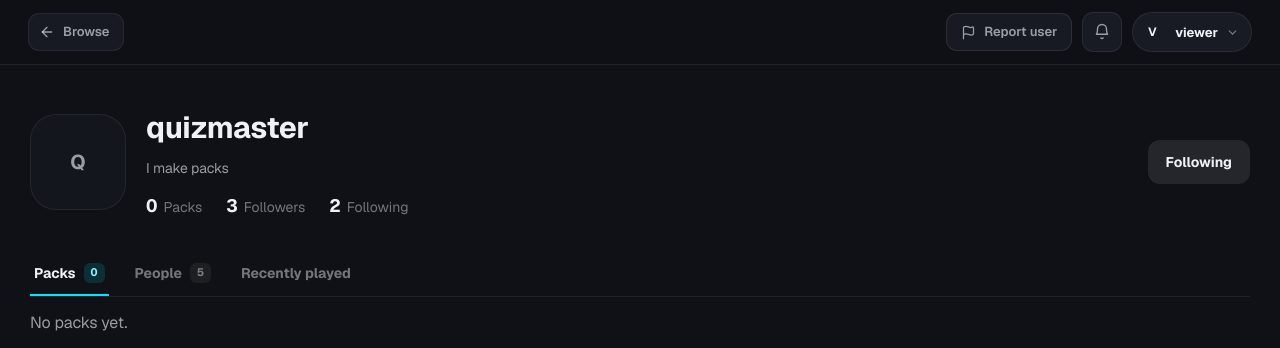
Test: AuthorScreen › toggles Following to Follow and updates the count via unfollow when already followed
Click the button "Following": (1199, 162) [1148,140,1250,184]
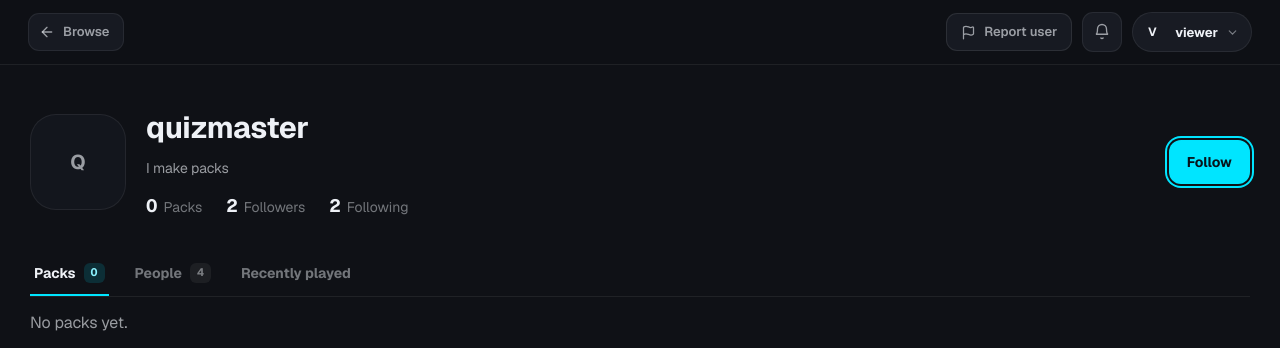
Expected: the button "Follow" is shown, [1169,140,1250,184]
Now the button "2 Followers" is shown, box [226,192,305,220]
